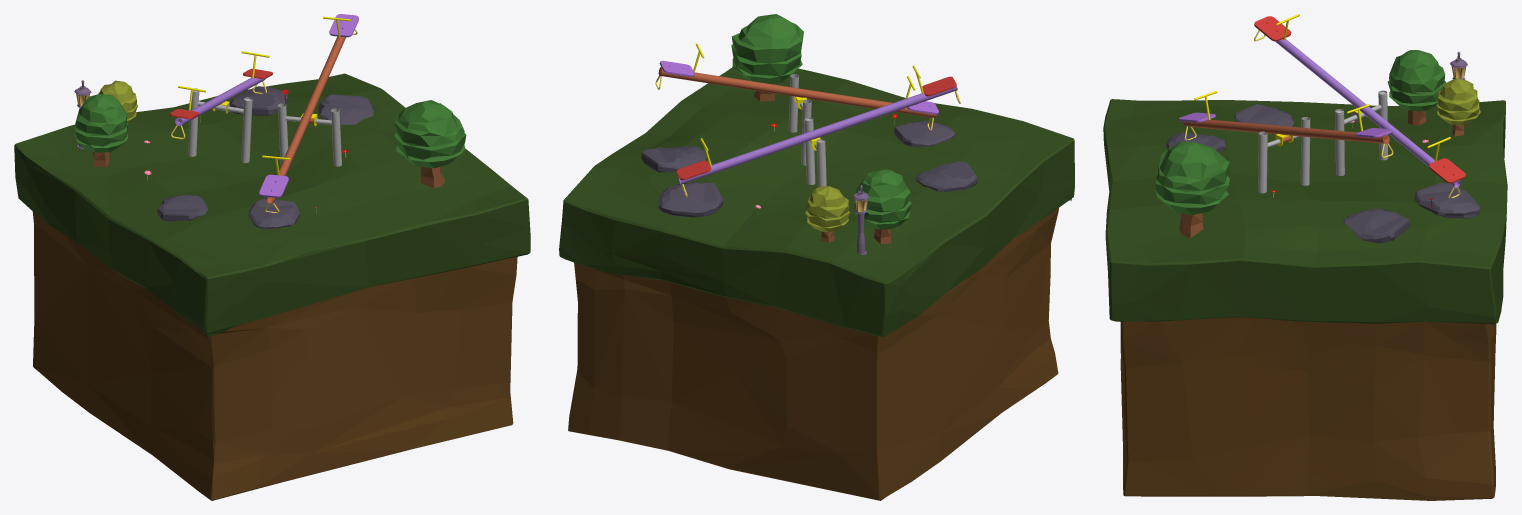
File: tile_seasaw.min.gltf
3 renders of one model, left to right at view 1: azimuth 30°, elevation 25°; view 2: azimuth 150°, elevation 25°; view 3: azimuth 270°, elevation 25°, orthographic. The views are drawn at different scales.
Parts seen in each view (by area): view 1: CENTERED.006, Circle.006, Circle.023, -DC_Brep.002, -DC_Brep.001, -DC_Brep.012, Box001.027, -DC_Brep.000, Box001.028, Box001.030, Box001.029, Circle.029; view 2: CENTERED.006, Circle.006, -DC_Brep.001, -DC_Brep.002, Circle.023, Box001.029, Circle.029, Box001.030, Box001.027, Box001.028, -DC_Brep.012, -DC_Brep.000 (+1 smaller); view 3: CENTERED.006, Circle.006, -DC_Brep.001, Circle.023, -DC_Brep.002, Circle.029, Box001.027, Box001.029, -DC_Brep.000, -DC_Brep.012, Box001.030, Box001.028.
Boxes of the visible parts, left/top/right/bottom form: CENTERED.006: left=14, top=73, right=530, bottom=500; Circle.006: left=394, top=100, right=466, bottom=188; Circle.023: left=74, top=93, right=128, bottom=166; -DC_Brep.002: left=259, top=14, right=358, bottom=212; -DC_Brep.001: left=169, top=51, right=272, bottom=139; -DC_Brep.012: left=188, top=88, right=252, bottom=163; Box001.027: left=318, top=94, right=374, bottom=124; -DC_Brep.000: left=277, top=103, right=341, bottom=166; Box001.028: left=248, top=198, right=300, bottom=228; Box001.030: left=157, top=195, right=207, bottom=221; Box001.029: left=229, top=86, right=288, bottom=115; Circle.029: left=98, top=80, right=137, bottom=122; CENTERED.006: left=559, top=67, right=1074, bottom=500; Circle.006: left=731, top=14, right=803, bottom=101; -DC_Brep.001: left=676, top=65, right=960, bottom=197; -DC_Brep.002: left=655, top=43, right=938, bottom=131; Circle.023: left=853, top=169, right=911, bottom=243; Box001.029: left=658, top=182, right=723, bottom=217; Circle.029: left=805, top=186, right=849, bottom=242; Box001.030: left=916, top=161, right=977, bottom=191; Box001.027: left=641, top=146, right=706, bottom=172; Box001.028: left=894, top=120, right=955, bottom=146; -DC_Brep.012: left=804, top=117, right=826, bottom=187; -DC_Brep.000: left=788, top=74, right=811, bottom=165; CENTERED.006: left=1103, top=99, right=1507, bottom=500; Circle.006: left=1155, top=141, right=1229, bottom=237; -DC_Brep.001: left=1254, top=14, right=1465, bottom=198; Circle.023: left=1387, top=50, right=1446, bottom=125; -DC_Brep.002: left=1179, top=91, right=1393, bottom=157; Circle.029: left=1437, top=78, right=1480, bottom=136; Box001.027: left=1342, top=208, right=1409, bottom=243; Box001.029: left=1414, top=182, right=1480, bottom=218; -DC_Brep.000: left=1258, top=117, right=1310, bottom=193; -DC_Brep.012: left=1335, top=90, right=1388, bottom=175; Box001.030: left=1234, top=104, right=1294, bottom=134; Box001.028: left=1166, top=132, right=1225, bottom=152.
Bounding box in the file's own units: 1.07 × 1.07 × 1.09.
